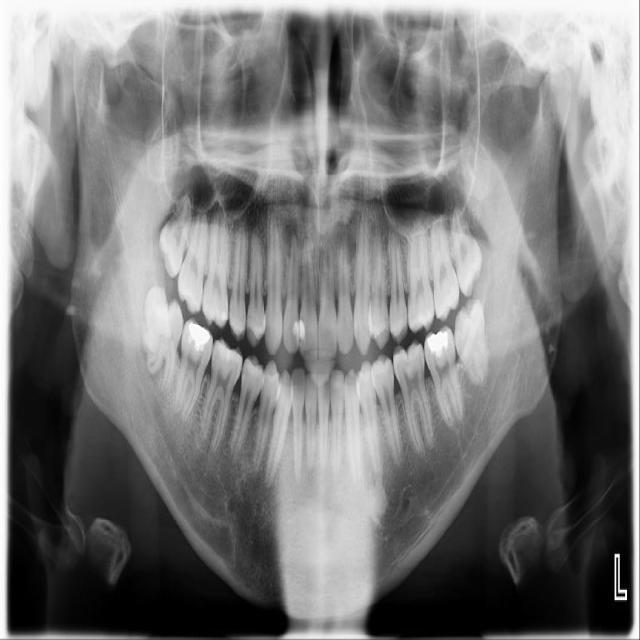3M ESPE Implant: (151, 192, 197, 280)
52: (206, 337, 246, 394), (416, 324, 462, 371), (180, 317, 213, 373), (200, 281, 230, 329), (299, 301, 318, 361), (283, 303, 299, 355)
73: (604, 592, 615, 606)
BioHorizons Implant: (427, 210, 462, 324)
BioLife Implant: (445, 200, 488, 299)
Biomet 3i Implant: (451, 296, 491, 388)
Blue Sky Bio Implant: (420, 324, 470, 432)
Caries: (174, 204, 210, 315)
Implant: (172, 316, 216, 427)
Keystone Dental Implant: (139, 284, 186, 393)
